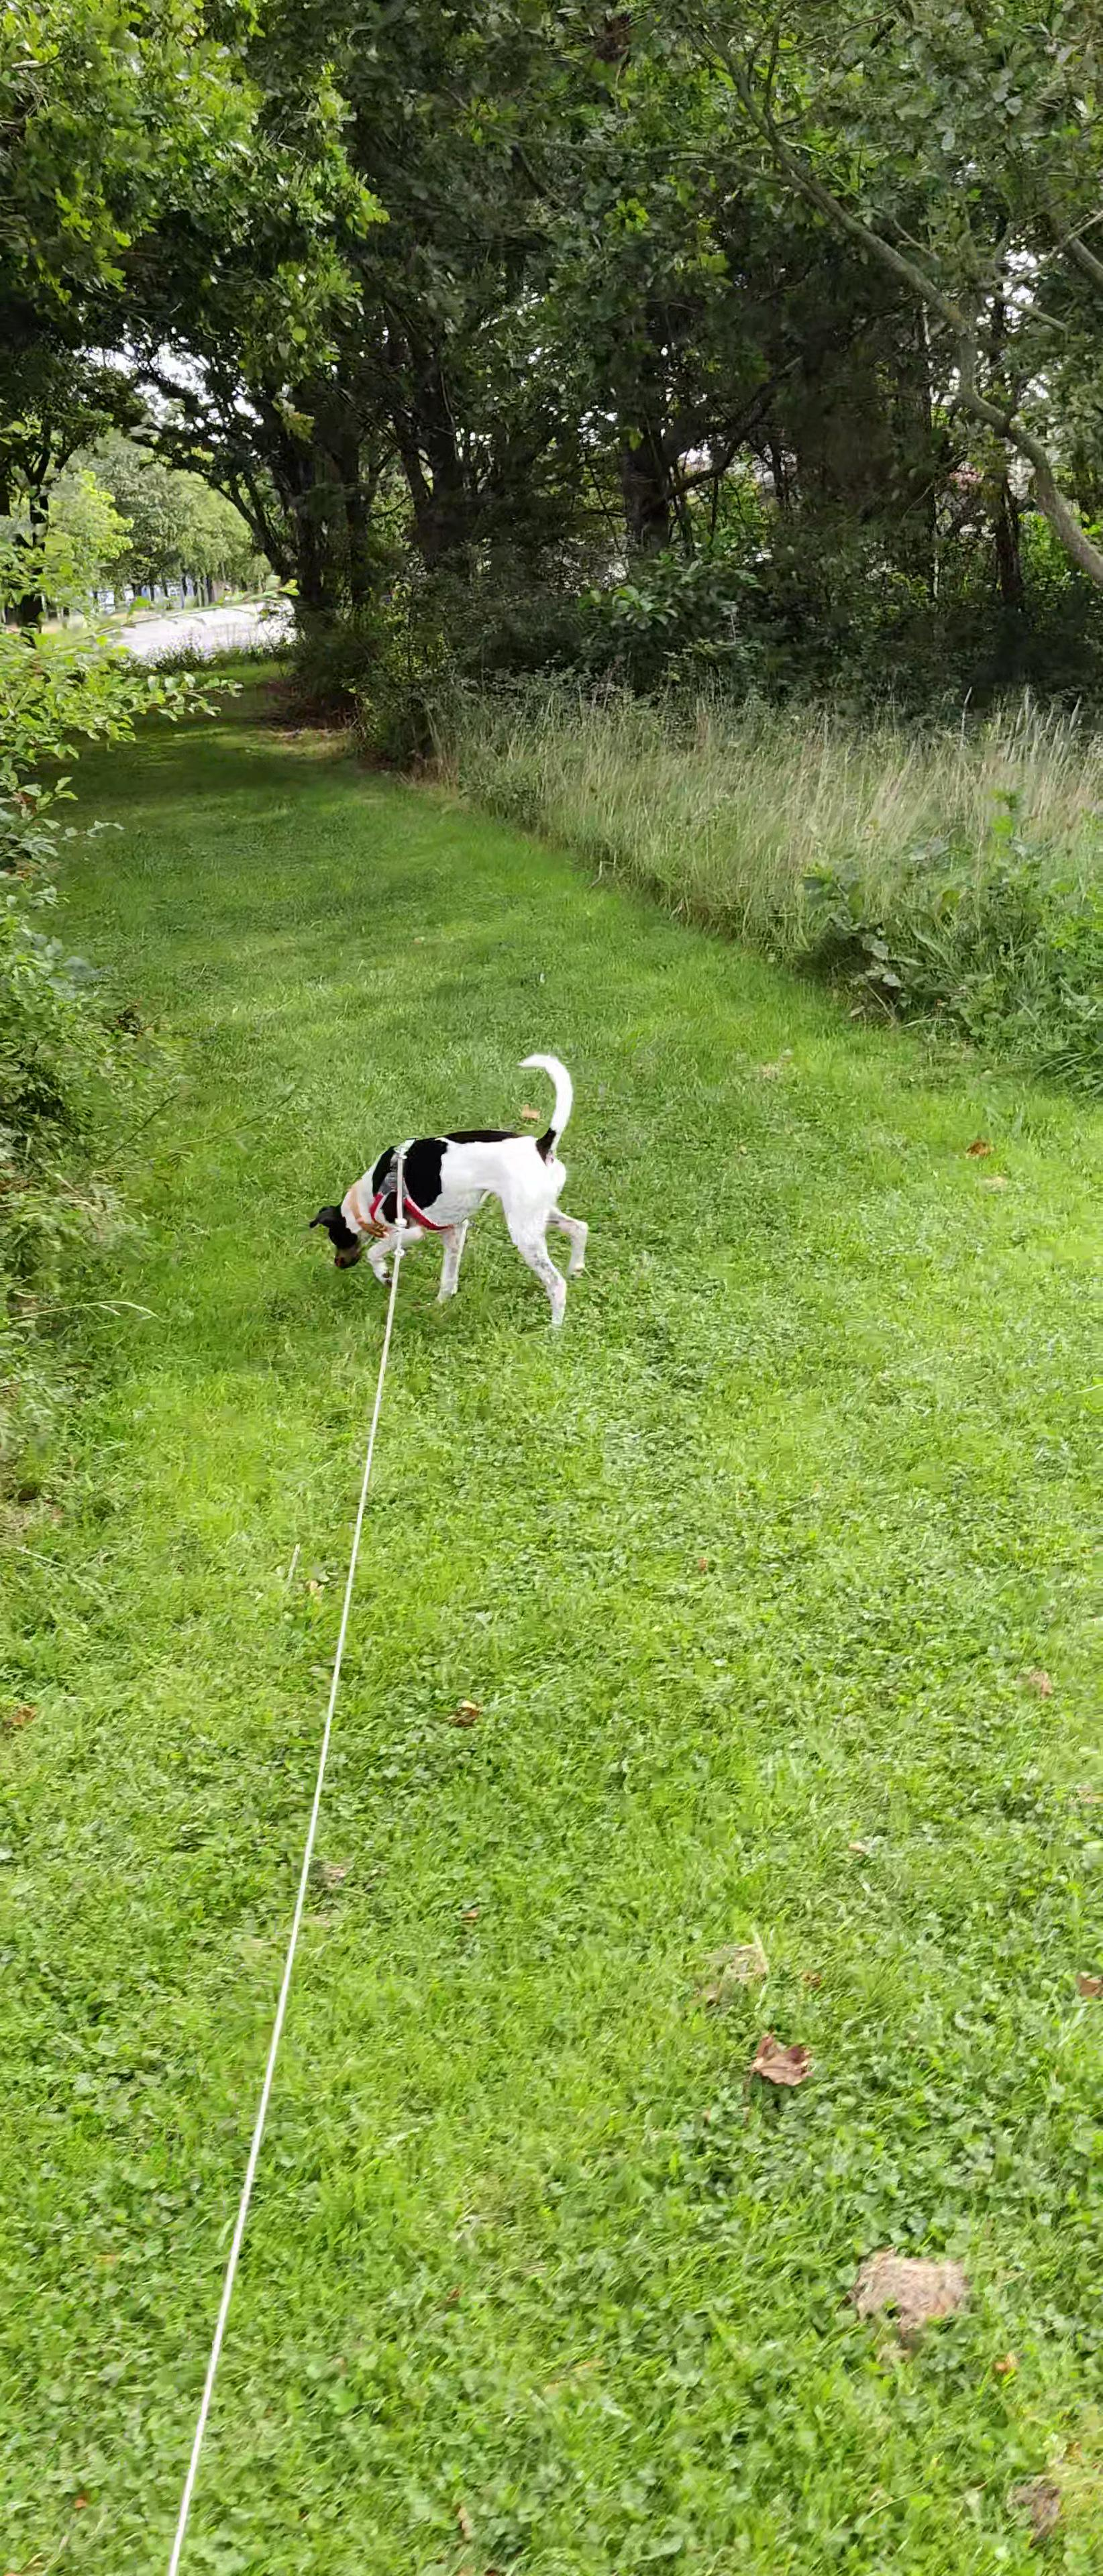Dog: (302, 1046, 597, 1327)
